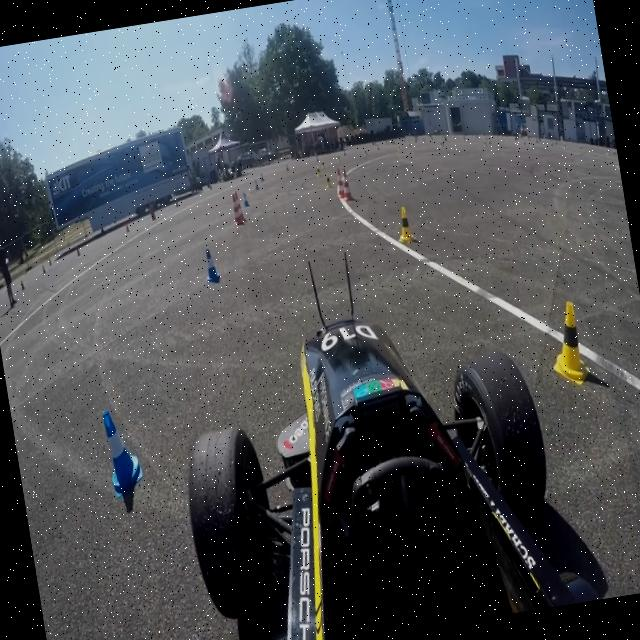blue_cone: (89, 403, 146, 493), (195, 242, 228, 290)
large_orange_cone: (228, 190, 250, 230), (335, 165, 352, 203)
yellow_cone: (542, 295, 590, 381), (388, 202, 418, 248)
